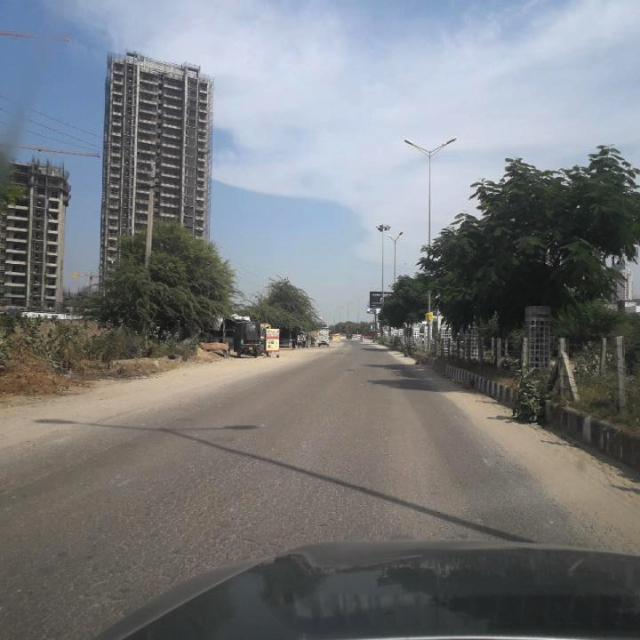crack: (16, 408, 418, 609)
